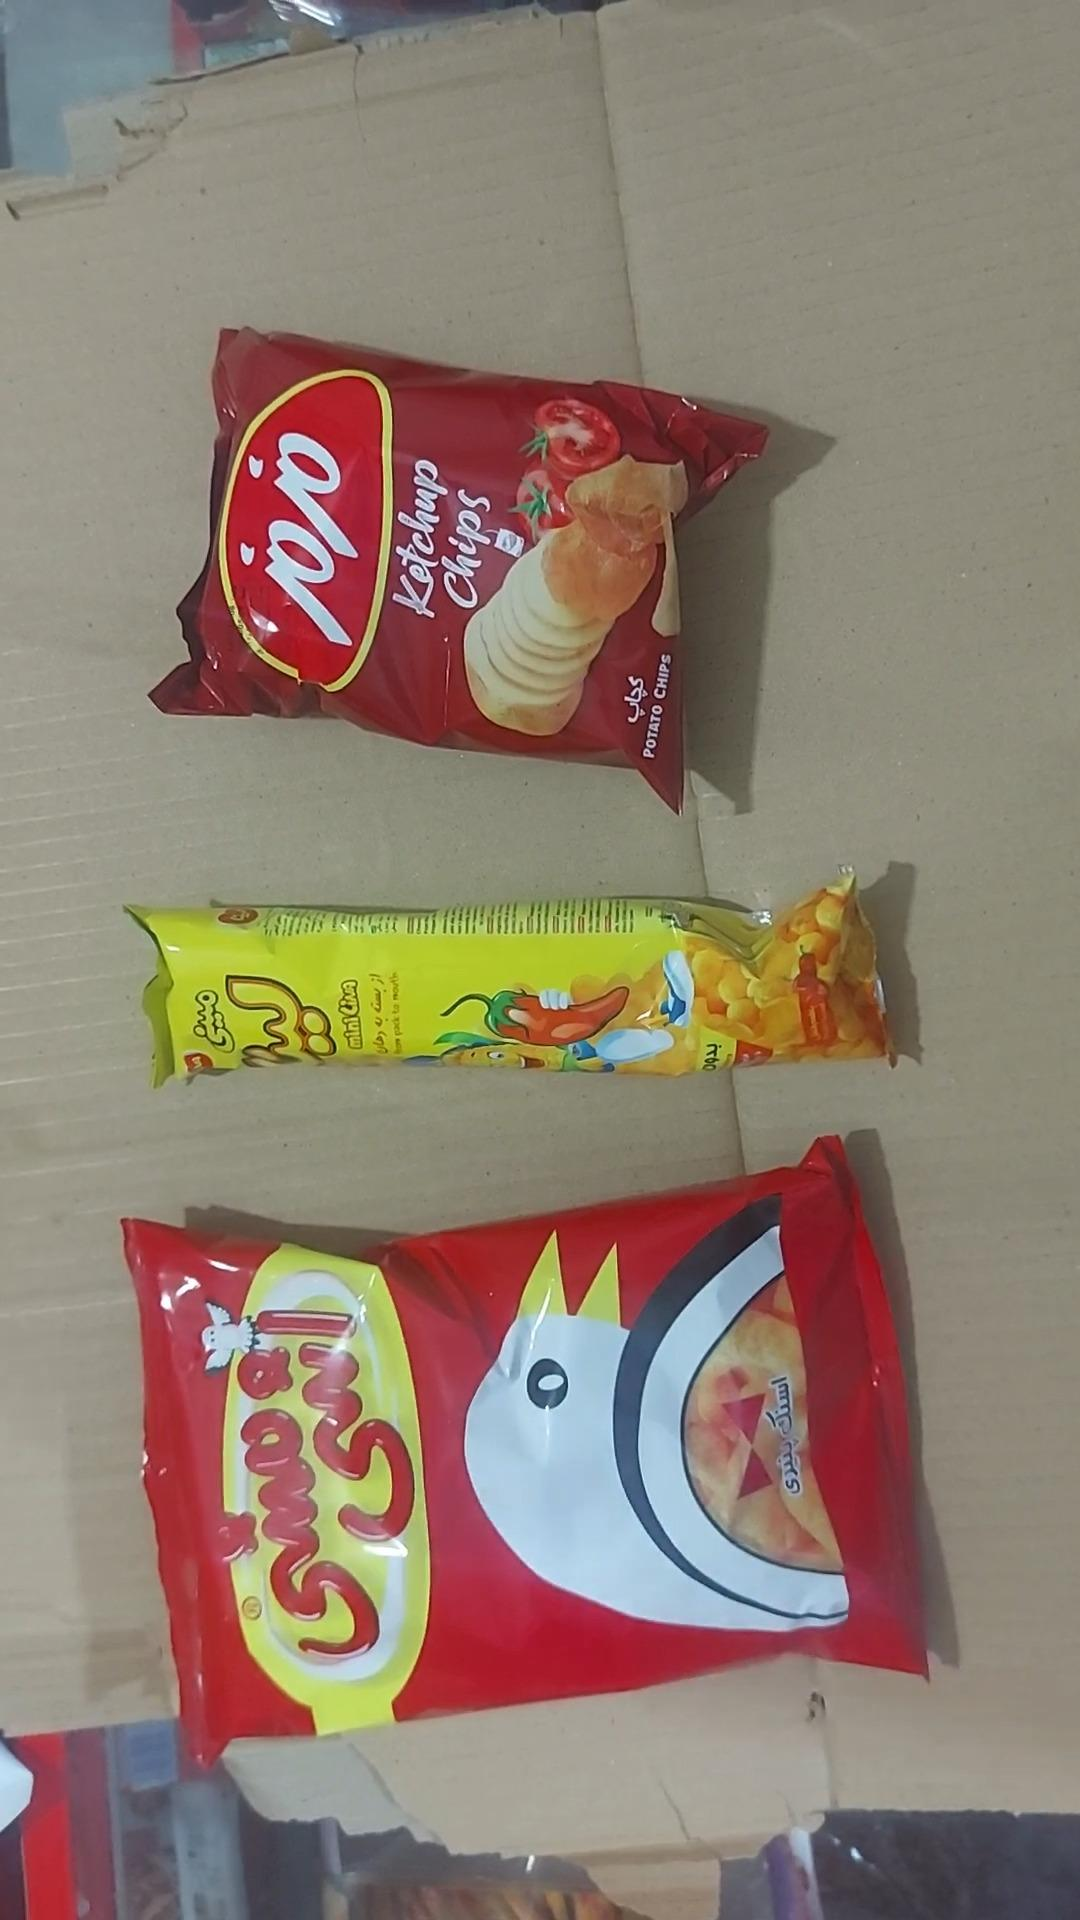Ashi Mashi snacks: (124, 1139, 926, 1760)
Maz Maz ketchup chips: (150, 328, 765, 811)
Mini Lina: (128, 872, 893, 1085)
